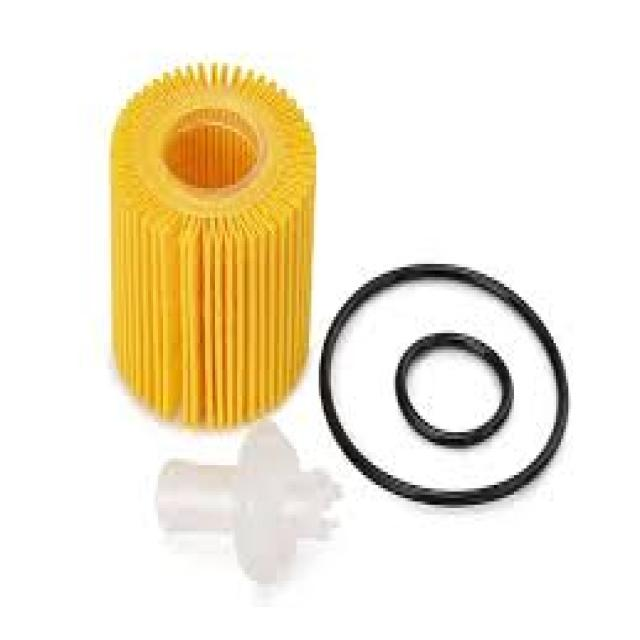oil_filter: (106, 51, 317, 428)
